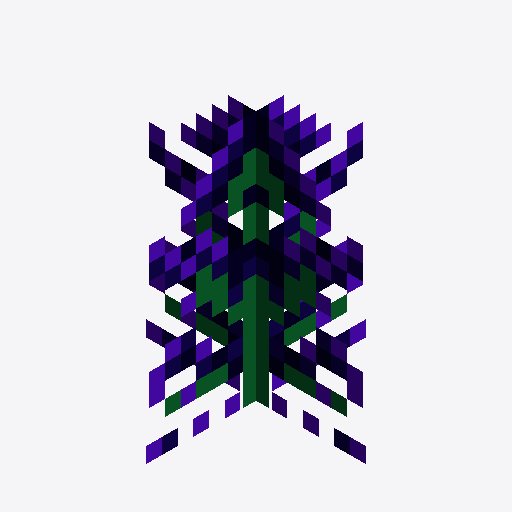
Isometric view (azimuth 45°, elevation 35.3°) of a Minecraft model made of 86 cuboids, textured from the same repository.
Parts seen in each view (by area): TopStalk (×2), element 4, element 47, element 18, element 65, element 19, element 66, element 38, element 79, element 40, element 75, element 17 (+27 smaller).
Boxes of the visible parts, box(x1,y1,x2,y2) form: TopStalk (×2): box(243, 104, 268, 407); element 4: box(269, 119, 283, 217); element 47: box(228, 119, 242, 217); element 18: box(284, 236, 299, 316); element 65: box(212, 236, 227, 316); element 19: box(300, 227, 315, 307); element 66: box(196, 227, 211, 307); element 38: box(269, 336, 299, 389); element 79: box(212, 336, 242, 389); element 40: box(316, 327, 346, 380); element 75: box(165, 327, 195, 380); element 17: box(269, 246, 283, 325).
Bounding box in the file's own units: 14 × 16 × 14.